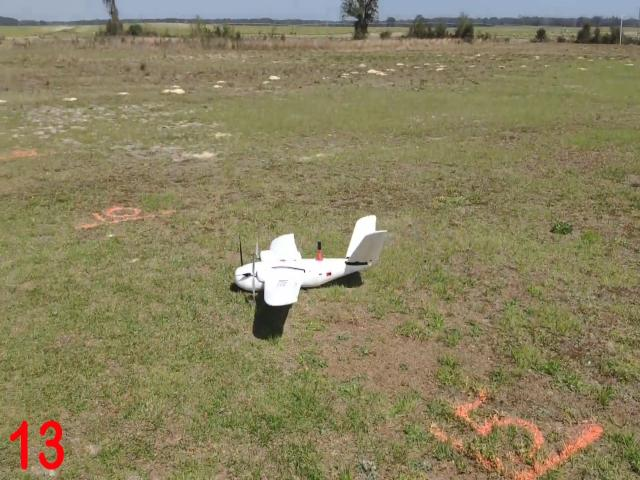plane: (235, 215, 388, 307)
